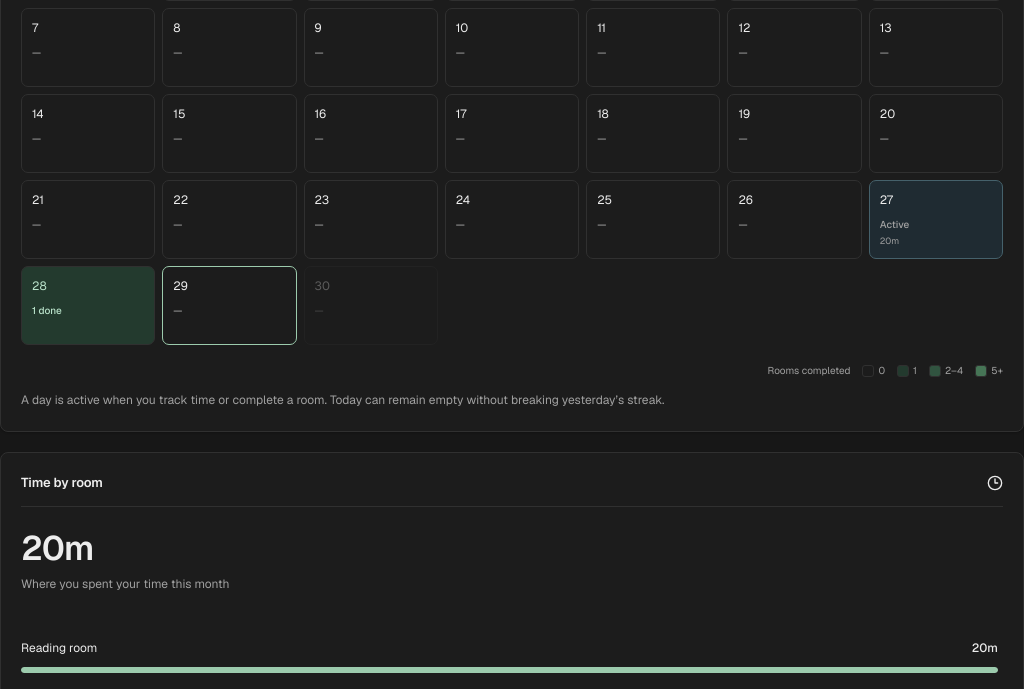
Test case: automatic progress dashboard › shows completions and time without manual controls, supports date drilldown and charts
(page scrolled)
Click the button with aria-label "September 28: 1 rooms completed, 0m" at (88, 306), box x1=21 y1=266 x2=155 y2=346
(page scrolled)
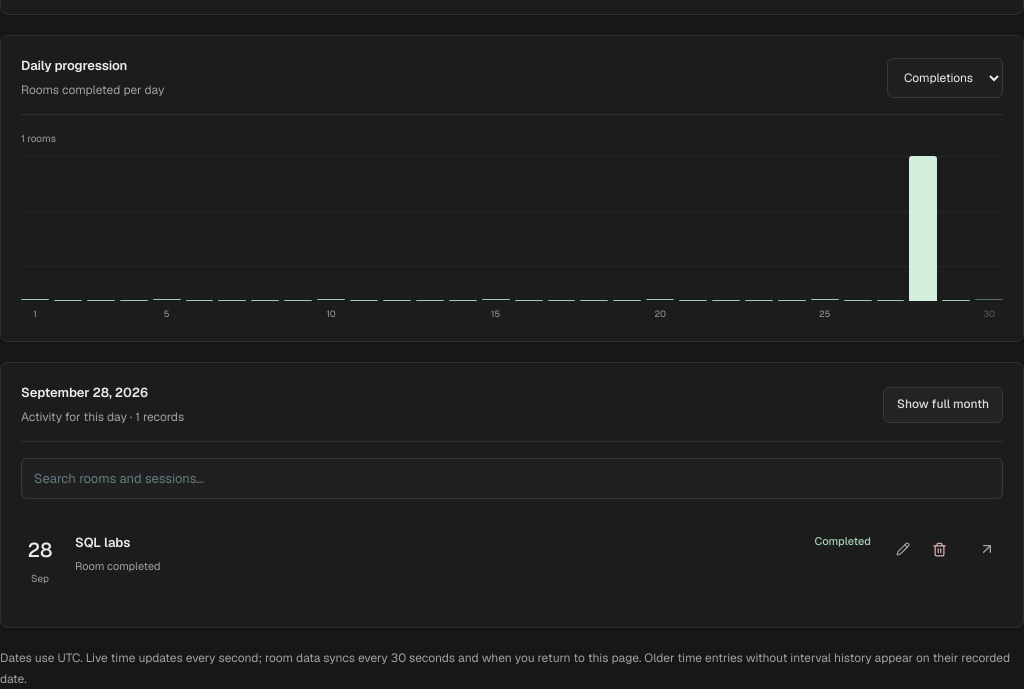
Expected: the heading "SQL labs" is shown, x1=75 y1=534 x2=130 y2=551
Expected: the heading "Reading session" is not shown
Click the button "Show full month" at (943, 405), box x1=883 y1=387 x2=1003 y2=423
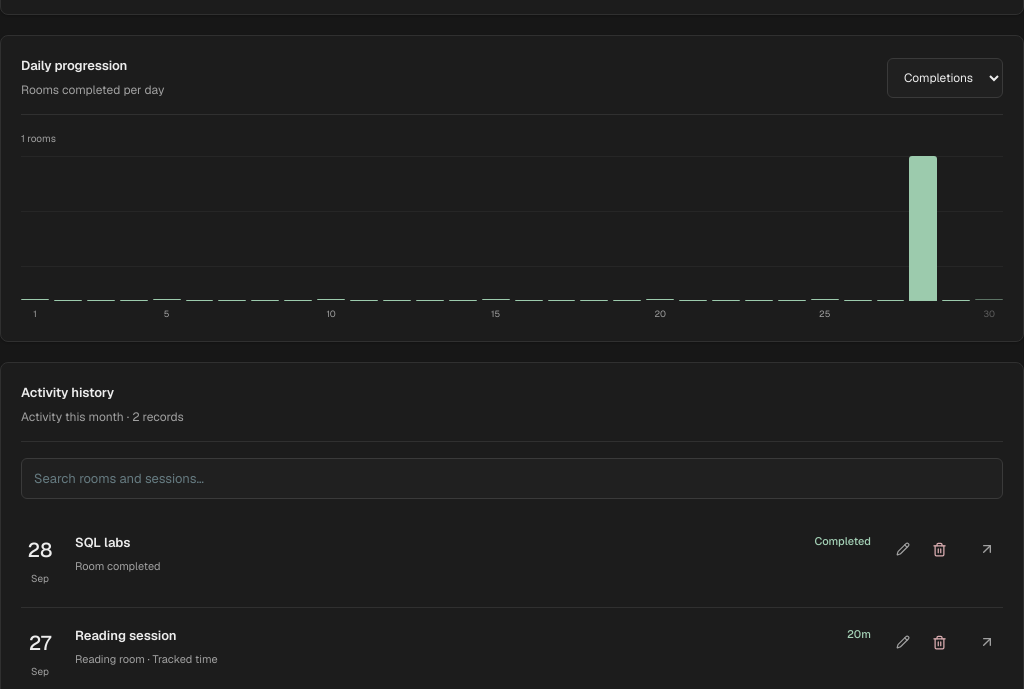
Expected: the heading "Reading session" is shown, x1=75 y1=627 x2=177 y2=644
Select "Time spent" in the dropdown named "Chart metric" at (945, 78), box x1=887 y1=58 x2=1003 y2=98
(page scrolled)
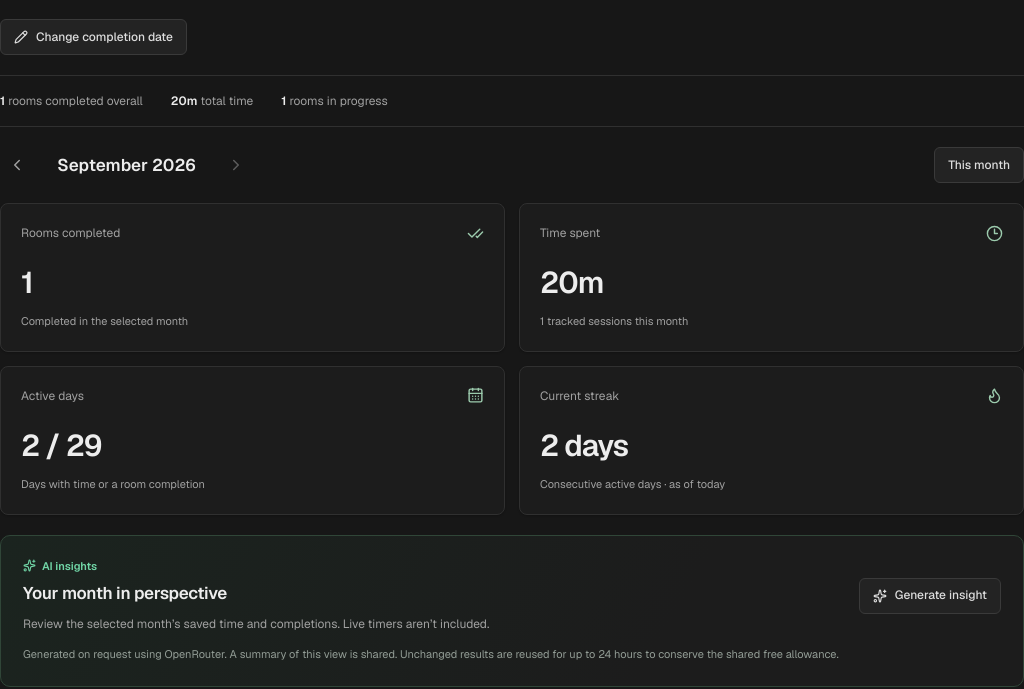
Click the button named "Previous month" at (17, 165), box x1=0 y1=148 x2=34 y2=182
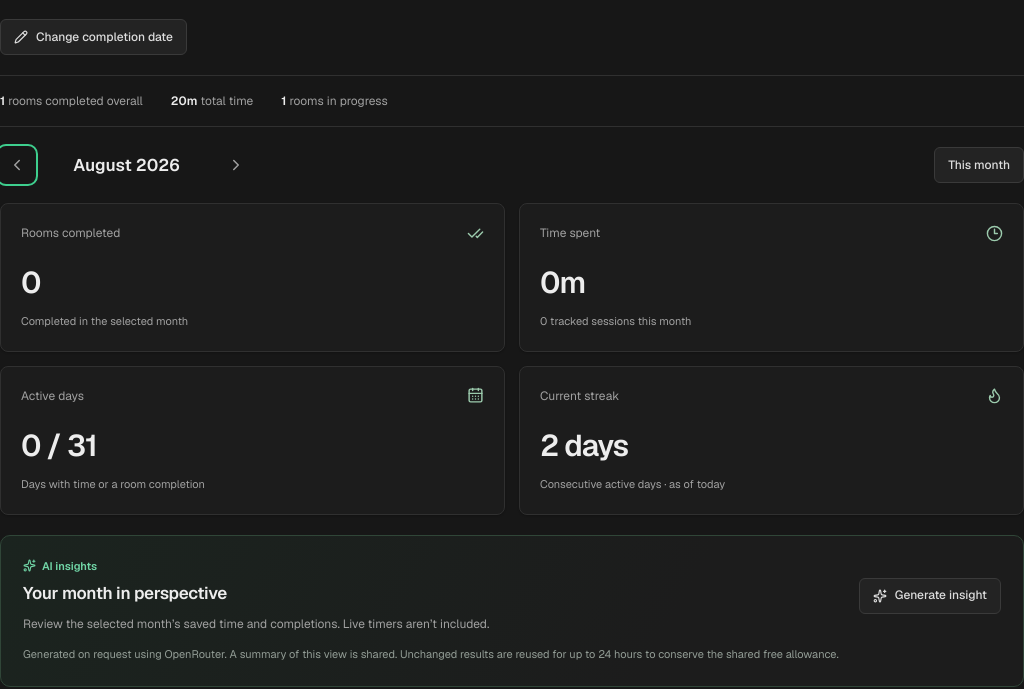
Expected: the heading "SQL labs" is not shown
Expected: the heading "August 2026" is shown, x1=73 y1=154 x2=180 y2=176
